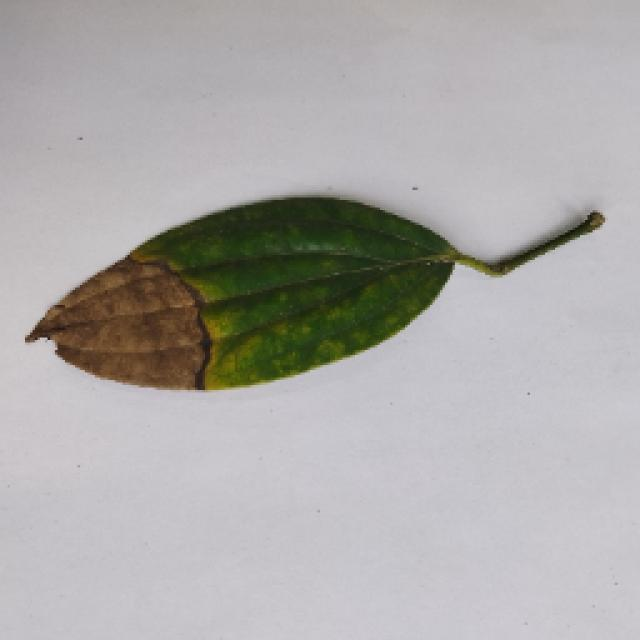footrot: (25, 185, 605, 390)
